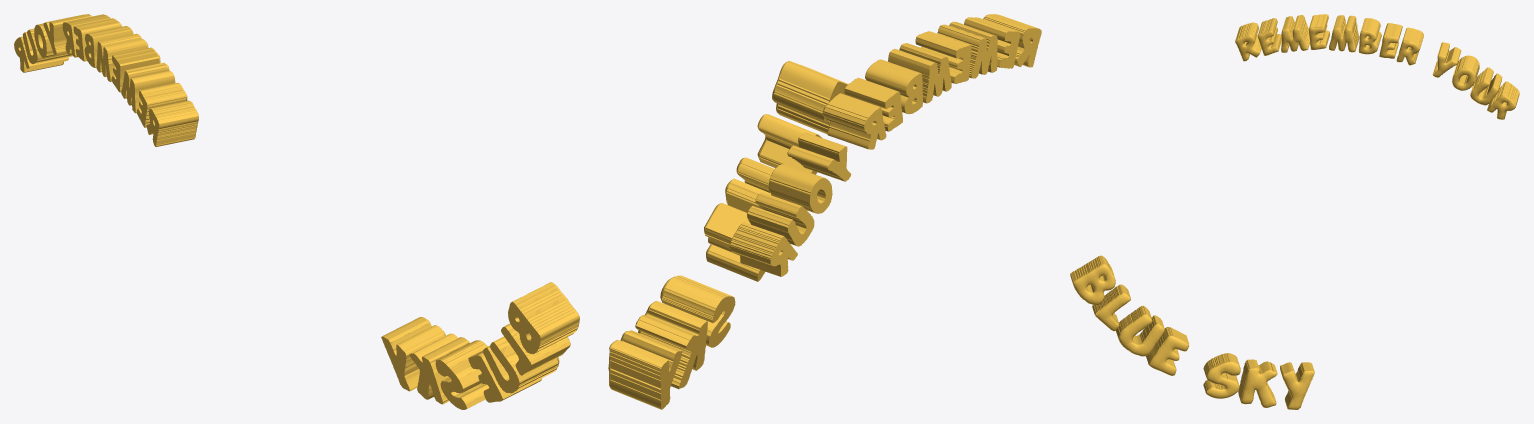
The model's file is CloudyEyesText.gltf.
3 renders of one model, left to right at view 1: azimuth 30°, elevation 25°; view 2: azimuth 150°, elevation 25°; view 3: azimuth 270°, elevation 25°, orthographic. The views are drawn at different scales.
Parts seen in each view (by area): view 1: Blue Sky, Remember Your; view 2: Remember Your, Blue Sky; view 3: Blue Sky, Remember Your.
Boxes of the visible parts, left/top/right/bottom form: Blue Sky: left=381, top=282, right=579, bottom=409; Remember Your: left=14, top=14, right=198, bottom=146; Remember Your: left=729, top=14, right=1041, bottom=276; Blue Sky: left=608, top=61, right=848, bottom=409; Blue Sky: left=1070, top=255, right=1314, bottom=409; Remember Your: left=1235, top=14, right=1519, bottom=119.
Size of the model in its own units: 2.12 by 2.38 by 3.35.
